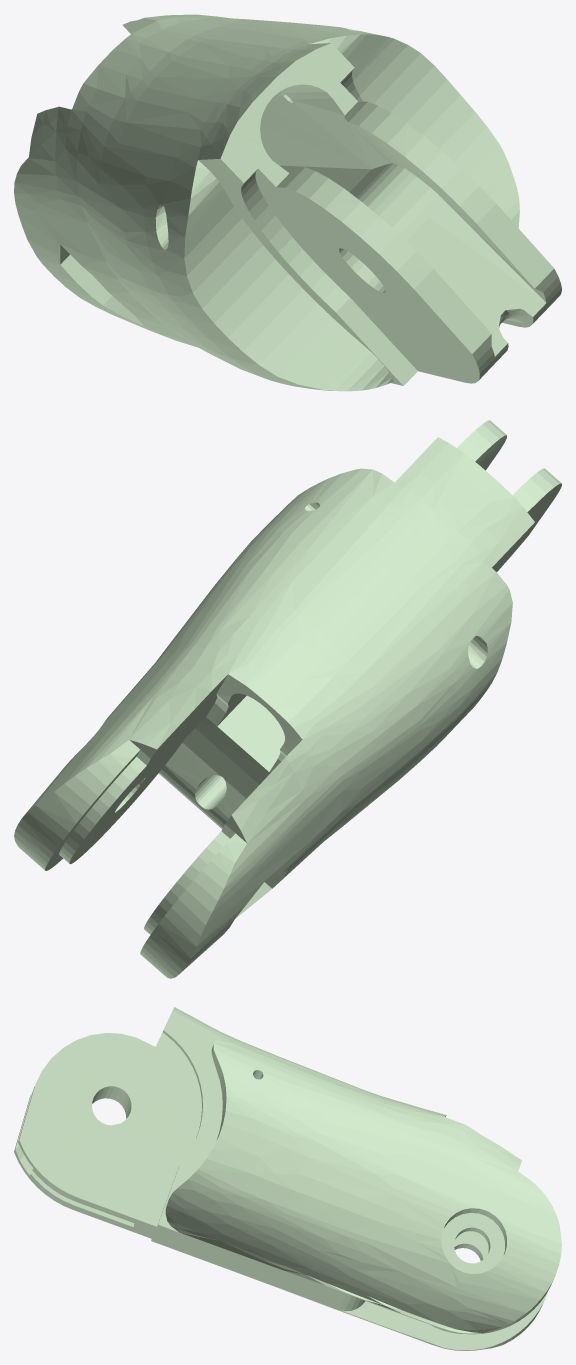
The model's file is i02_rightHand_pinkyPhal_visual.obj.balanced.glb.
3 renders of one model, top to bottom at view 1: azimuth 30°, elevation 25°; view 2: azimuth 150°, elevation 25°; view 3: azimuth 270°, elevation 25°, orthographic. The views are drawn at different scales.
Bounding box in the file's own units: 0.2346 × 0.3094 × 0.4963.
